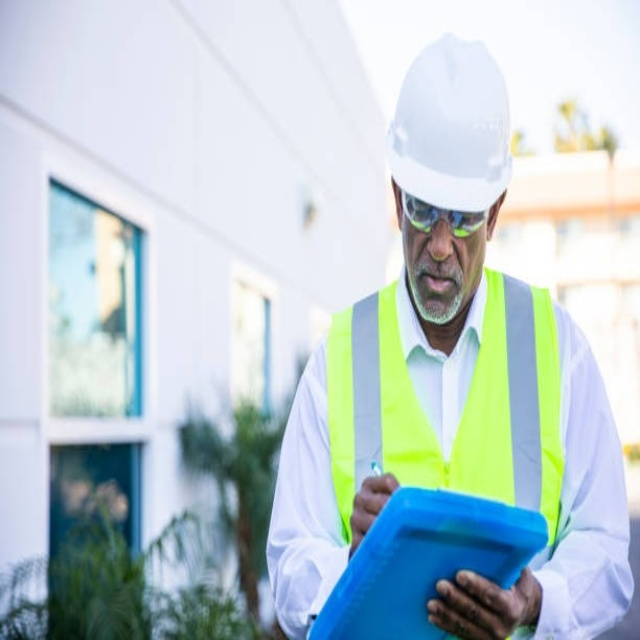Gafas: (400, 187, 490, 237)
Sin_guantes: (431, 564, 536, 640), (349, 471, 401, 559)
Sin_mascara: (421, 273, 454, 294)
